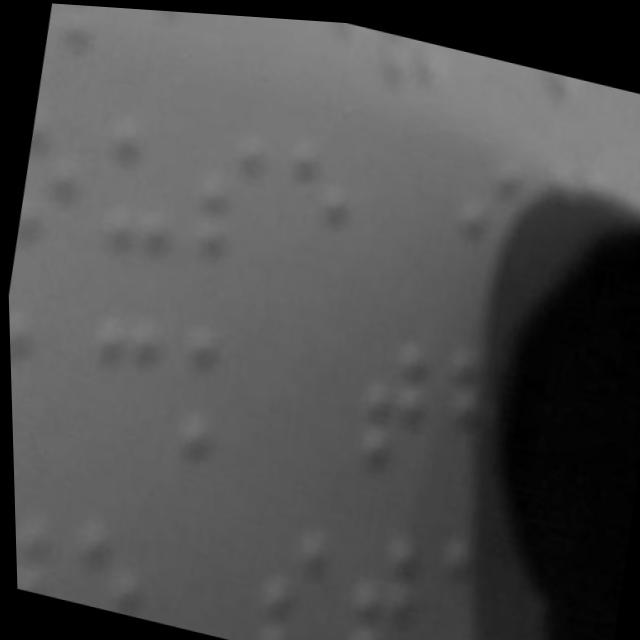braiile: (160, 321, 272, 477), (263, 116, 364, 284), (180, 111, 279, 279), (90, 101, 190, 264), (346, 321, 446, 482), (11, 91, 104, 262), (75, 289, 175, 446), (333, 505, 436, 640), (242, 503, 342, 640), (7, 297, 75, 451), (42, 2, 110, 64)
